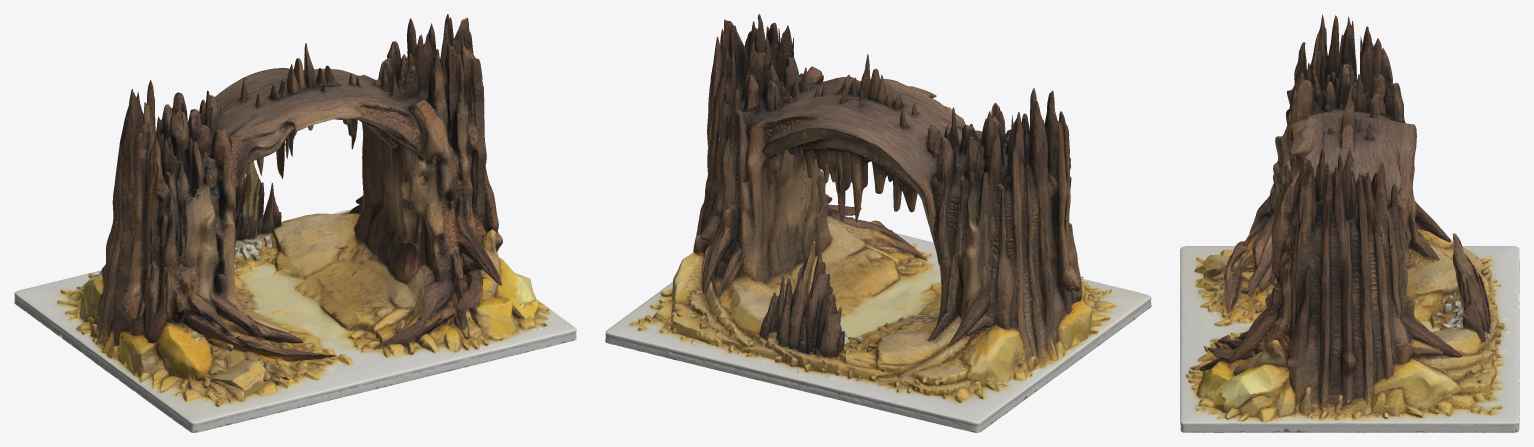
File: Hang5-v7.glb
The picture shows the model from 3 angles, left to right: view 1: azimuth 30°, elevation 25°; view 2: azimuth 150°, elevation 25°; view 3: azimuth 270°, elevation 25°; orthographic projection. The views are drawn at different scales.
Visible parts, largest first — view 1: tripo_node_5d58eff8-9fed-411e-b812-f989b00c8ed6; view 2: tripo_node_5d58eff8-9fed-411e-b812-f989b00c8ed6; view 3: tripo_node_5d58eff8-9fed-411e-b812-f989b00c8ed6.
Part boxes in pixels (x1,y1,x2,y2): tripo_node_5d58eff8-9fed-411e-b812-f989b00c8ed6: (14,14,576,432); tripo_node_5d58eff8-9fed-411e-b812-f989b00c8ed6: (605,14,1151,432); tripo_node_5d58eff8-9fed-411e-b812-f989b00c8ed6: (1180,14,1519,432).
Size of the model in its own units: 1 by 0.6821 by 0.8086.
1 material, 1 textured.
